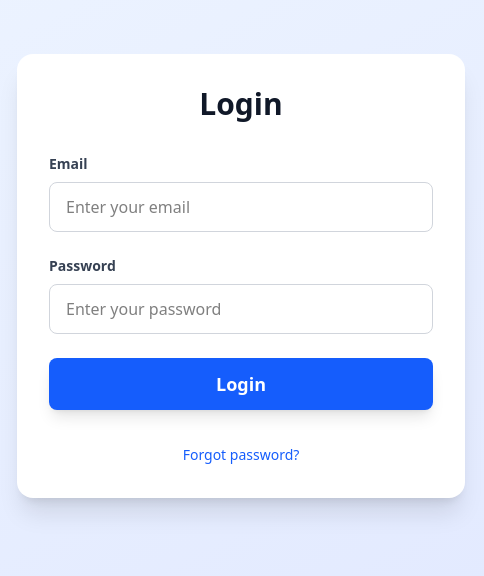
it: LoginForm › shows error for non-existent email
Step 1. Type "notexist@example.com" into the field labelled "Email" → (241, 207), box [49, 182, 433, 232]
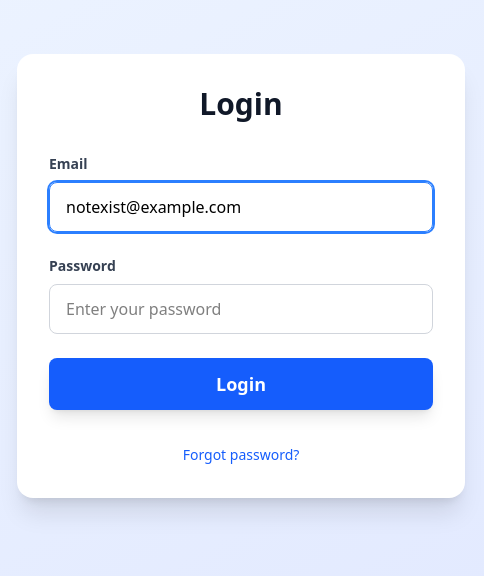
Step 2. Type "Password123!" into the password field labelled "Password" → (241, 309), box [49, 284, 433, 334]
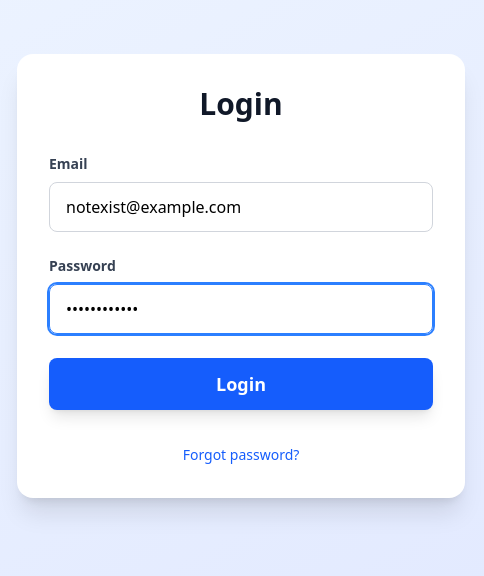
Step 3. Click the button "Login" → (241, 384), box [49, 358, 433, 410]
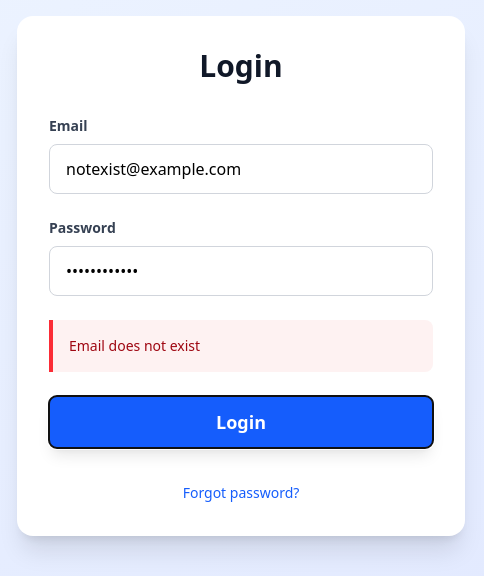
expect the text "Email does not exist" is shown: met, box [69, 336, 200, 355]
